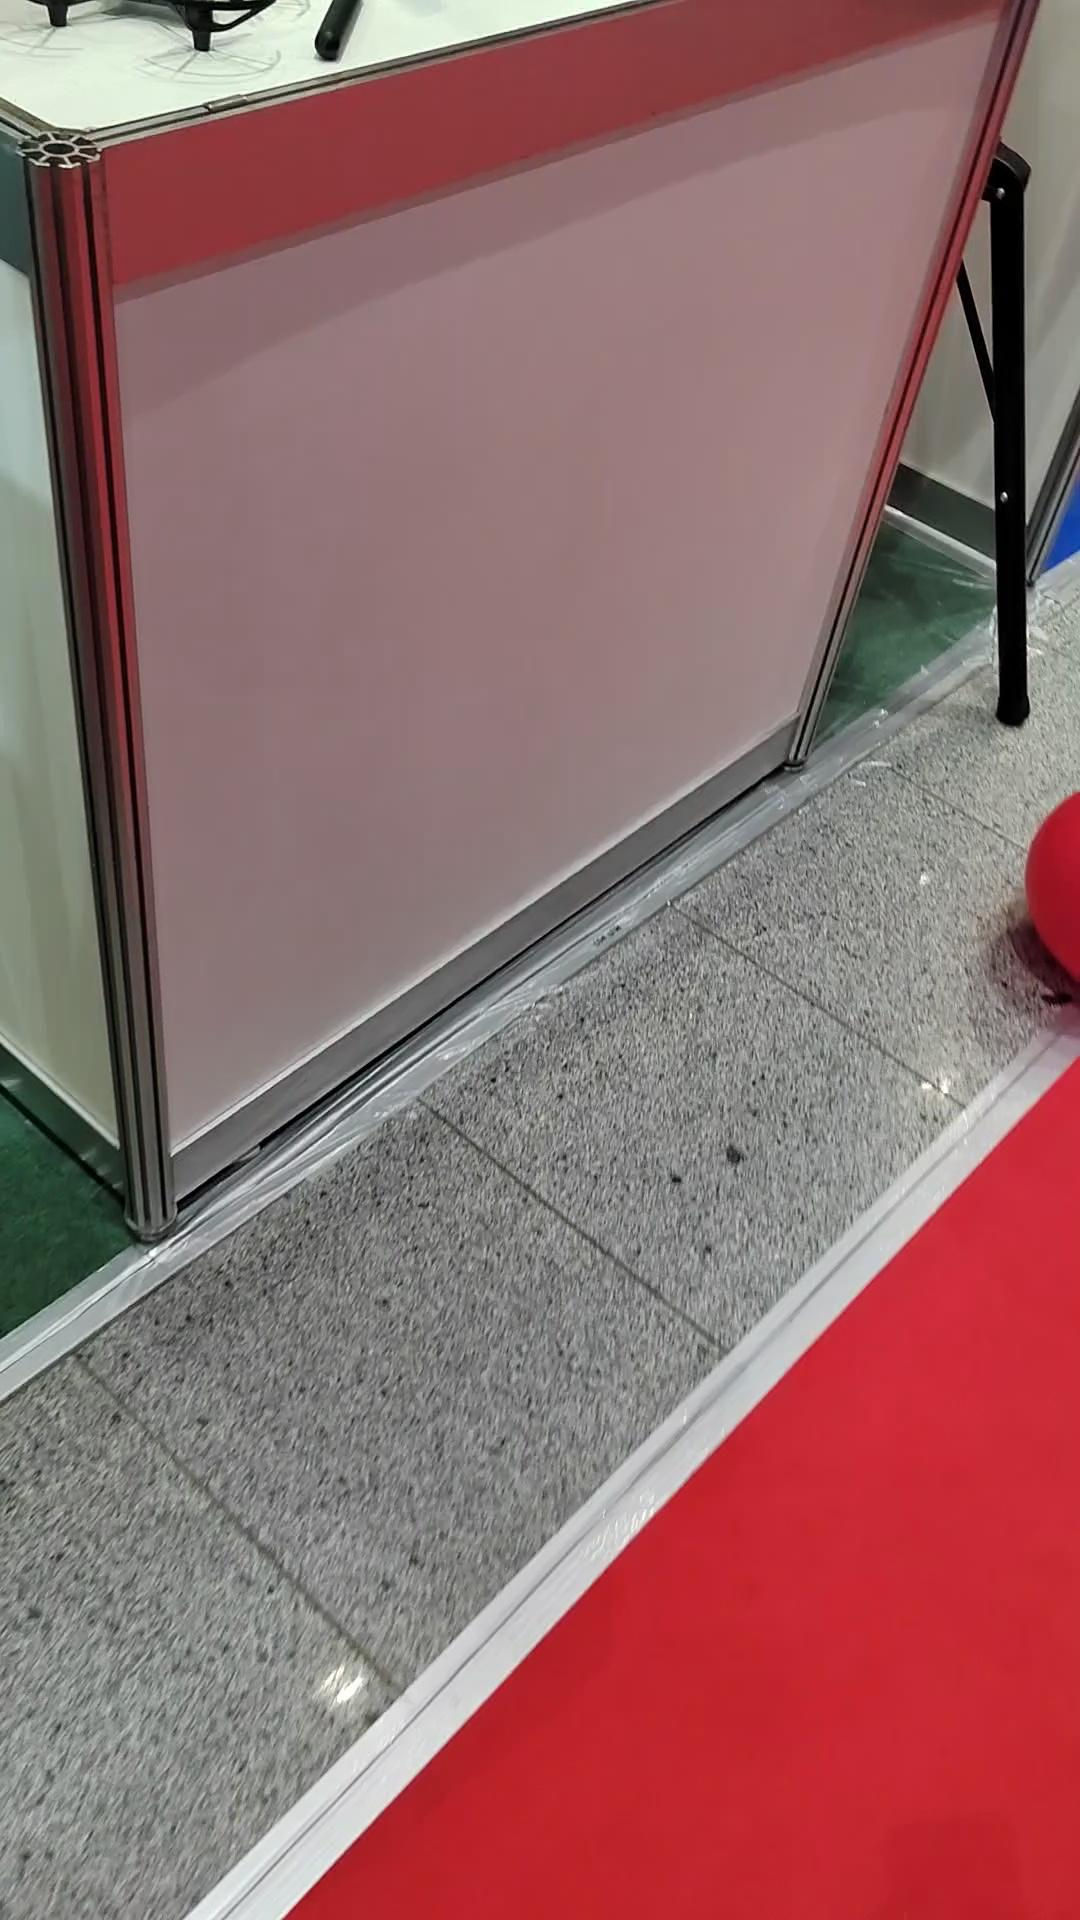red: (1023, 785, 1079, 986)
